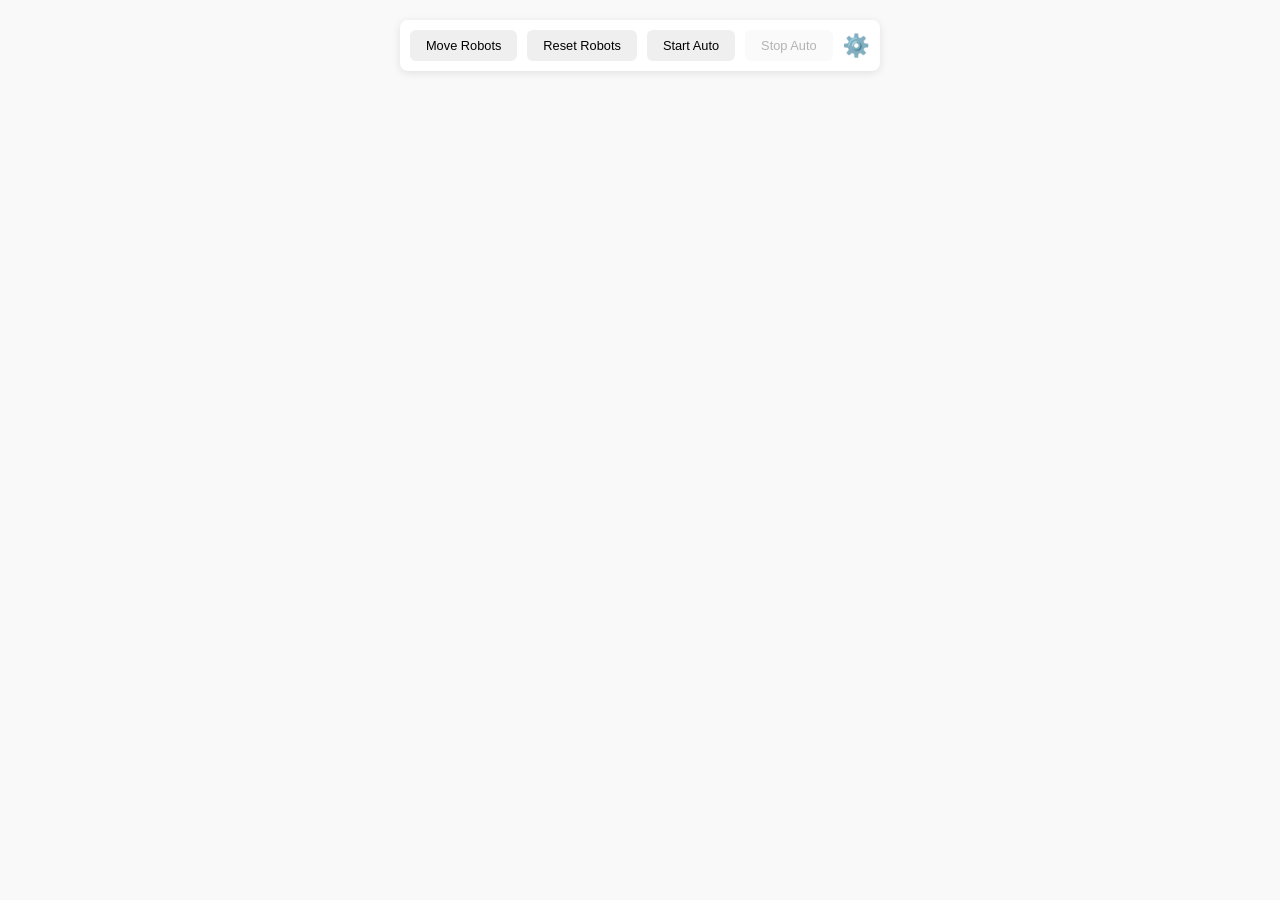
Scenario: Controls › updates values in the modal and saves
This screenshot has width=1280, height=900.
Click the icon titled "Options".
click(856, 46)  # box [843,32,870,58]
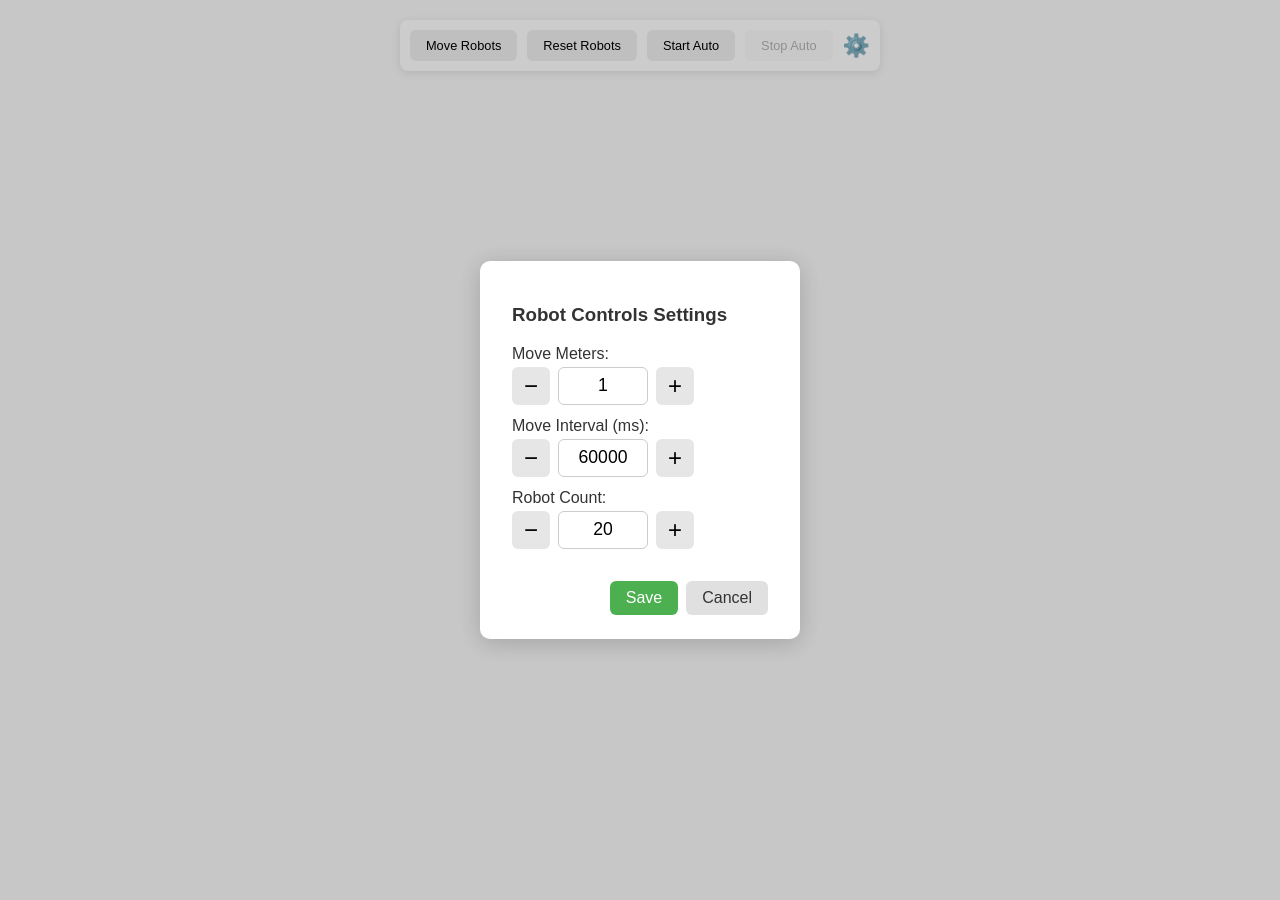
Replace the text in the number field labelled "Move Meters: − +" with "5" at coordinates (603, 386), box [558,367,648,405]
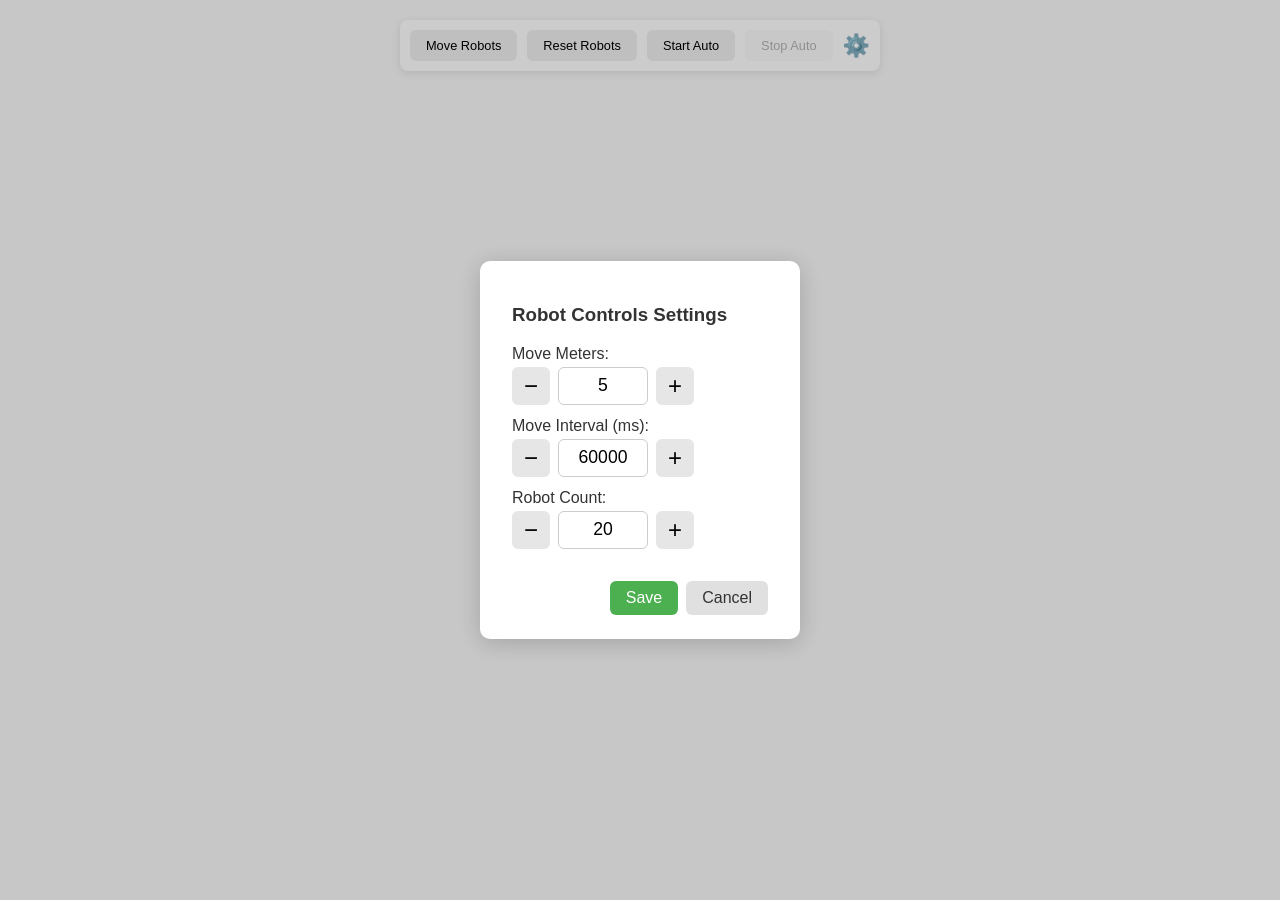
Click the button "Save".
click(644, 598)  # box [610,581,678,615]
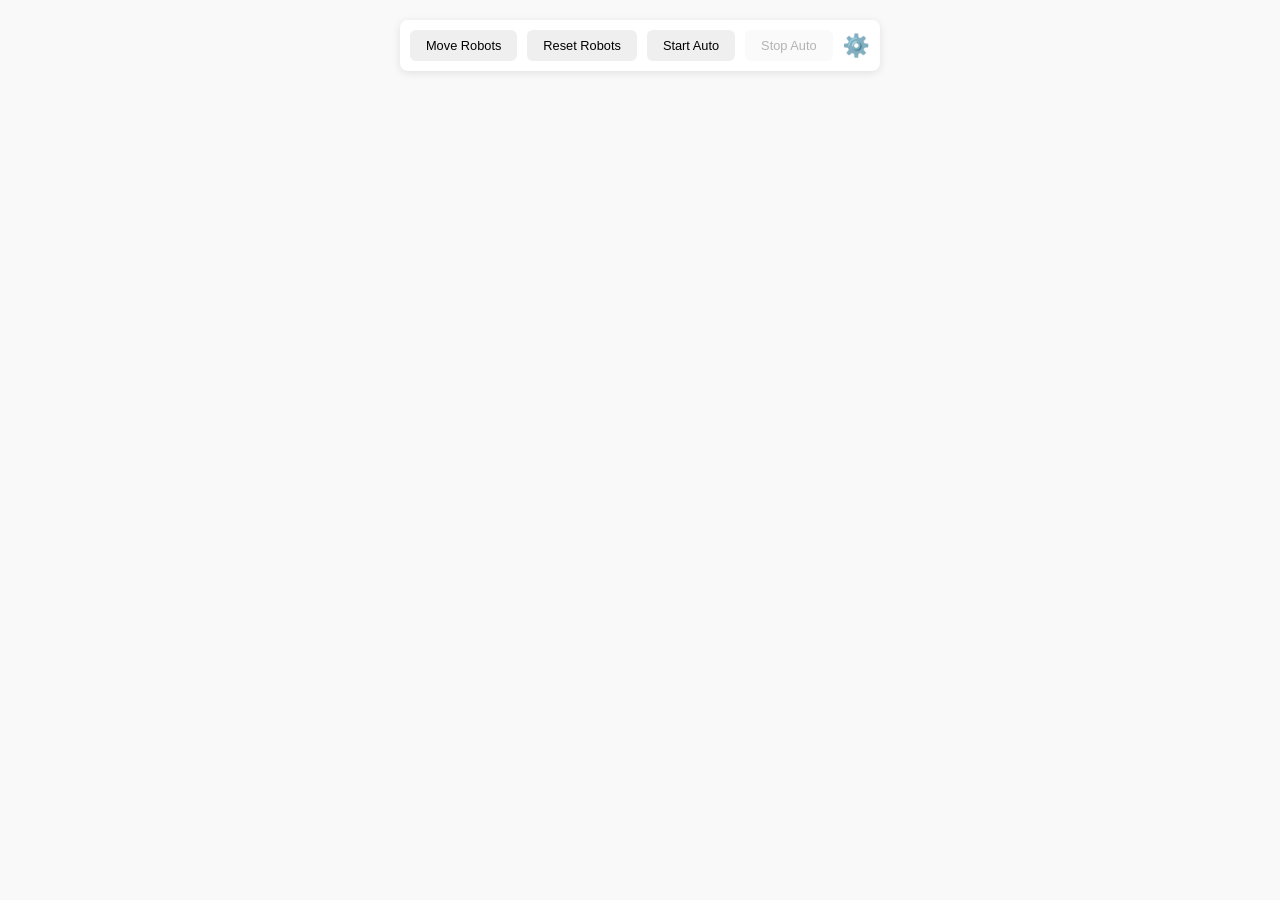
Click the icon titled "Options".
click(856, 46)  # box [843,32,870,58]
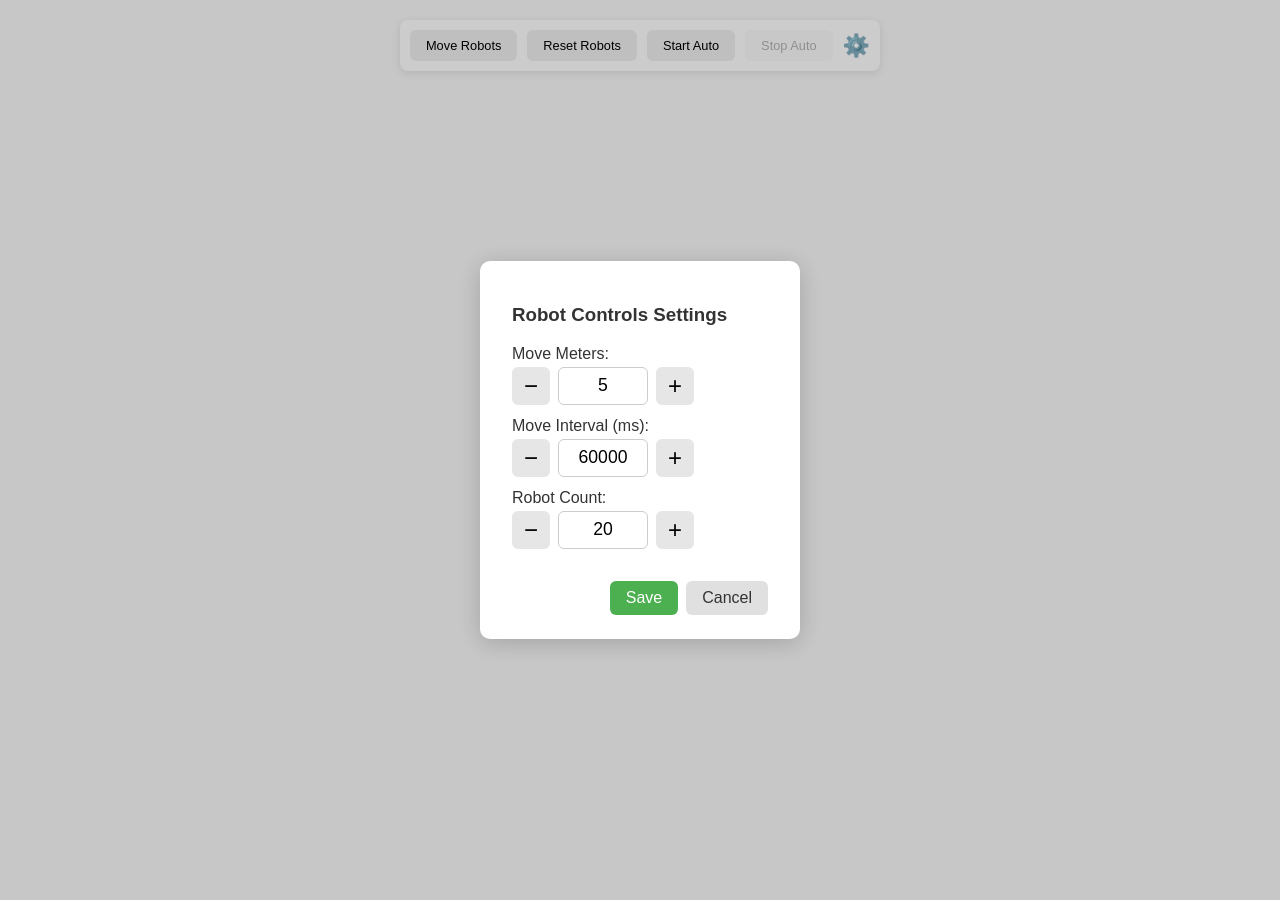
Expected: the number field labelled "Move Meters: − +" holds "5", [558,367,648,405]
